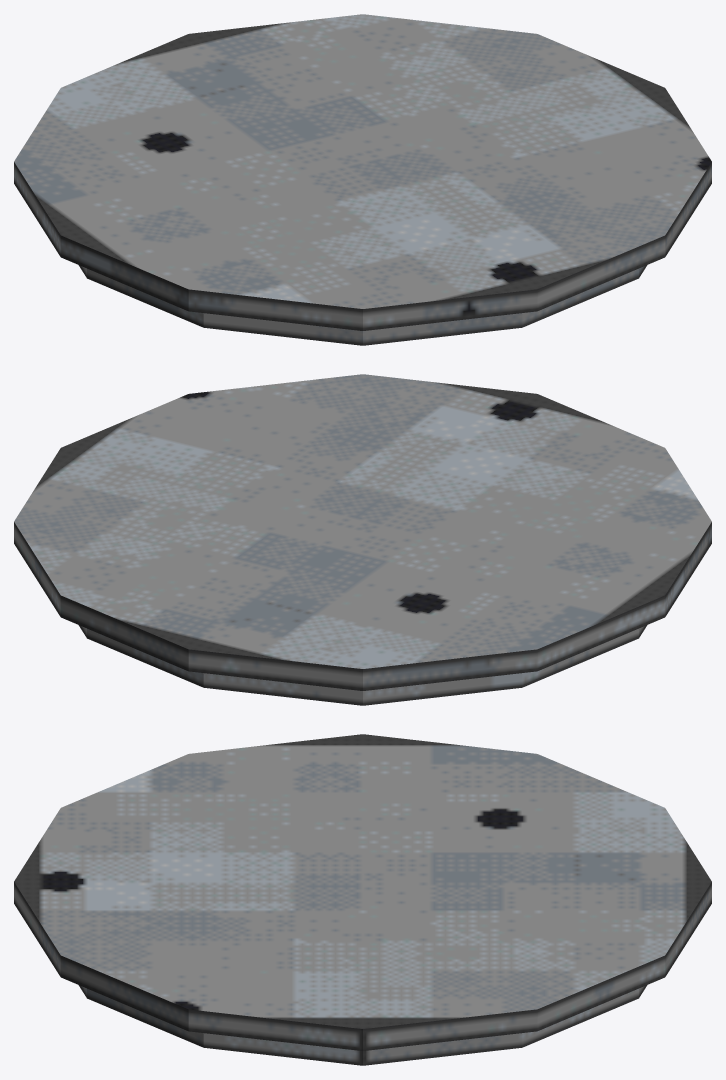
The model's file is SM_Plate_Tin_01.fbx.
3 views of the same model, one above another, from view 1: azimuth 30°, elevation 25°; view 2: azimuth 150°, elevation 25°; view 3: azimuth 270°, elevation 25° (orthographic).
Parts seen in each view (by area): view 1: SM_Plate_Tin_01; view 2: SM_Plate_Tin_01; view 3: SM_Plate_Tin_01.
Boxes of the visible parts, left/top/right/bottom form: SM_Plate_Tin_01: left=14, top=14, right=711, bottom=345; SM_Plate_Tin_01: left=14, top=374, right=711, bottom=705; SM_Plate_Tin_01: left=14, top=734, right=711, bottom=1065.
Size of the model in its own units: 0.23 by 0.018 by 0.23.
1 material, 1 textured.
